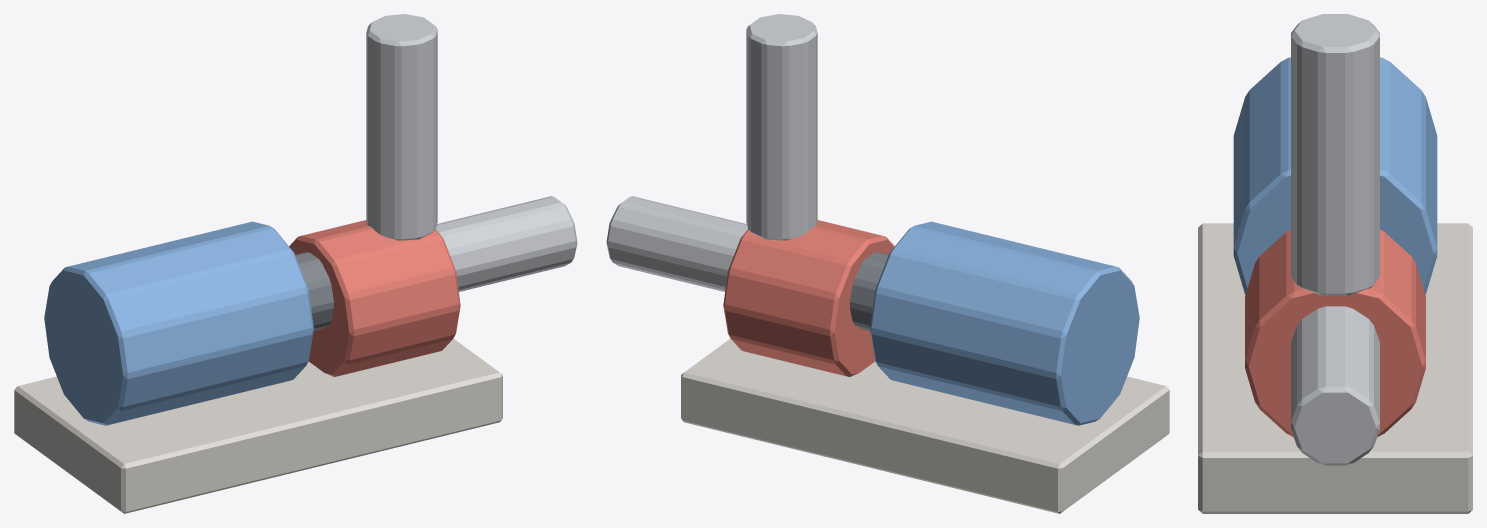
3 renders of one model, left to right at view 1: azimuth 30°, elevation 25°; view 2: azimuth 150°, elevation 25°; view 3: azimuth 270°, elevation 25°, orthographic. The views are drawn at different scales.
Parts seen in each view (by area): view 1: 底座.005, 电机, 管路, 泵体, 联轴器; view 2: 底座.005, 电机, 管路, 泵体, 联轴器; view 3: 底座.005, 管路, 电机, 泵体.
Boxes of the visible parts, x1,y1,x2,y2 form: 底座.005: [14, 338, 502, 513]; 电机: [44, 221, 313, 425]; 管路: [366, 14, 577, 291]; 泵体: [289, 220, 460, 376]; 联轴器: [295, 252, 333, 330]; 底座.005: [681, 338, 1169, 513]; 电机: [870, 221, 1139, 425]; 管路: [606, 14, 817, 291]; 泵体: [723, 220, 894, 376]; 联轴器: [850, 252, 888, 330]; 底座.005: [1198, 223, 1472, 513]; 管路: [1291, 14, 1379, 465]; 电机: [1233, 57, 1437, 294]; 泵体: [1245, 229, 1425, 436].
Size of the model in its own units: 310 by 220 by 120.
